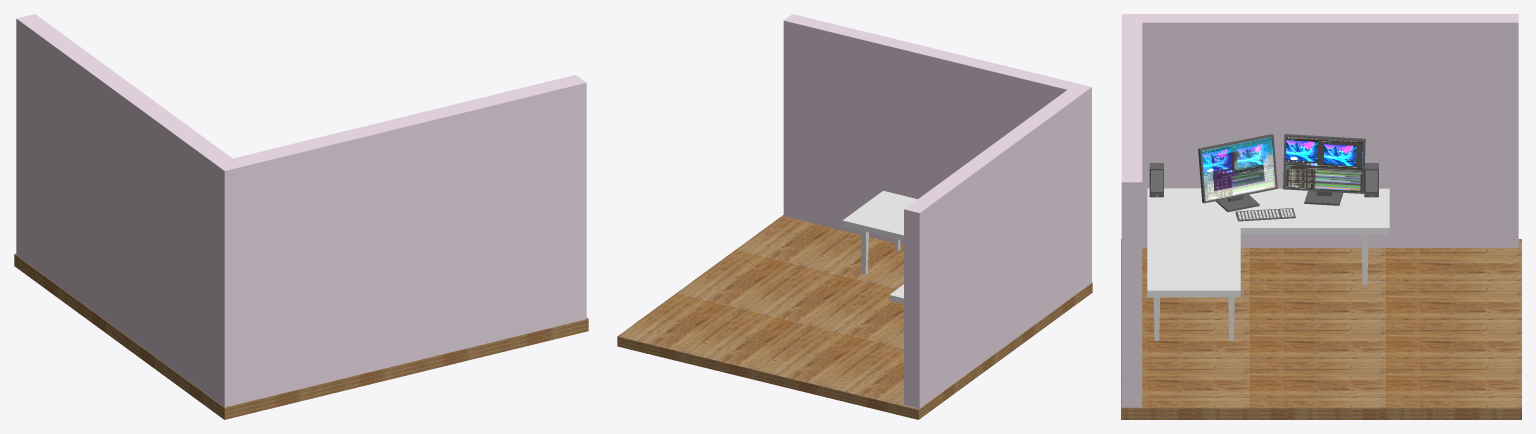
3 views of the same model, side by side, from view 1: azimuth 30°, elevation 25°; view 2: azimuth 150°, elevation 25°; view 3: azimuth 270°, elevation 25° (orthographic). The views are drawn at different scales.
Visible parts, largest first — view 1: Monitor.1-Mat.5, Monitor.1-Planks; view 2: Monitor.1-Mat.5, Monitor.1-Planks, Monitor.1-Mat.1; view 3: Monitor.1-Mat.5, Monitor.1-Planks, Monitor.1-Mat.1, Monitor.1-Light Bright (×2), Monitor.1-Lautsprecher-01 (×5), Monitor.1-Mat.2.
Part boxes in pixels (left/top/right/bottom): Monitor.1-Mat.5: left=16, top=14, right=586, bottom=407; Monitor.1-Planks: left=14, top=253, right=588, bottom=419; Monitor.1-Mat.5: left=783, top=14, right=1091, bottom=408; Monitor.1-Planks: left=617, top=215, right=1092, bottom=419; Monitor.1-Mat.1: left=842, top=190, right=917, bottom=319; Monitor.1-Mat.5: left=1121, top=14, right=1518, bottom=407; Monitor.1-Planks: left=1121, top=239, right=1521, bottom=419; Monitor.1-Mat.1: left=1147, top=188, right=1389, bottom=340; Monitor.1-Light Bright (×2): left=1202, top=137, right=1362, bottom=201; Monitor.1-Lautsprecher-01 (×5): left=1198, top=134, right=1365, bottom=221; Monitor.1-Mat.2: left=1237, top=208, right=1293, bottom=219.
Bounding box in the file's own units: 403 × 263 × 403.
9 materials, 3 textured.
